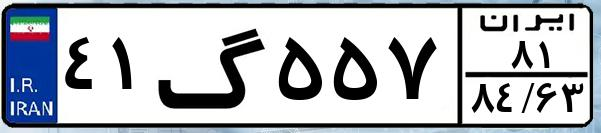1: (110, 28, 156, 98), (537, 27, 568, 80)
3: (560, 70, 590, 125)
4: (57, 26, 110, 100), (495, 70, 520, 125)
5: (270, 28, 330, 110), (330, 28, 385, 110)
6: (535, 70, 560, 125)
7: (385, 28, 445, 110)
8: (508, 27, 537, 80), (470, 70, 495, 125)
گ: (156, 12, 270, 120)
